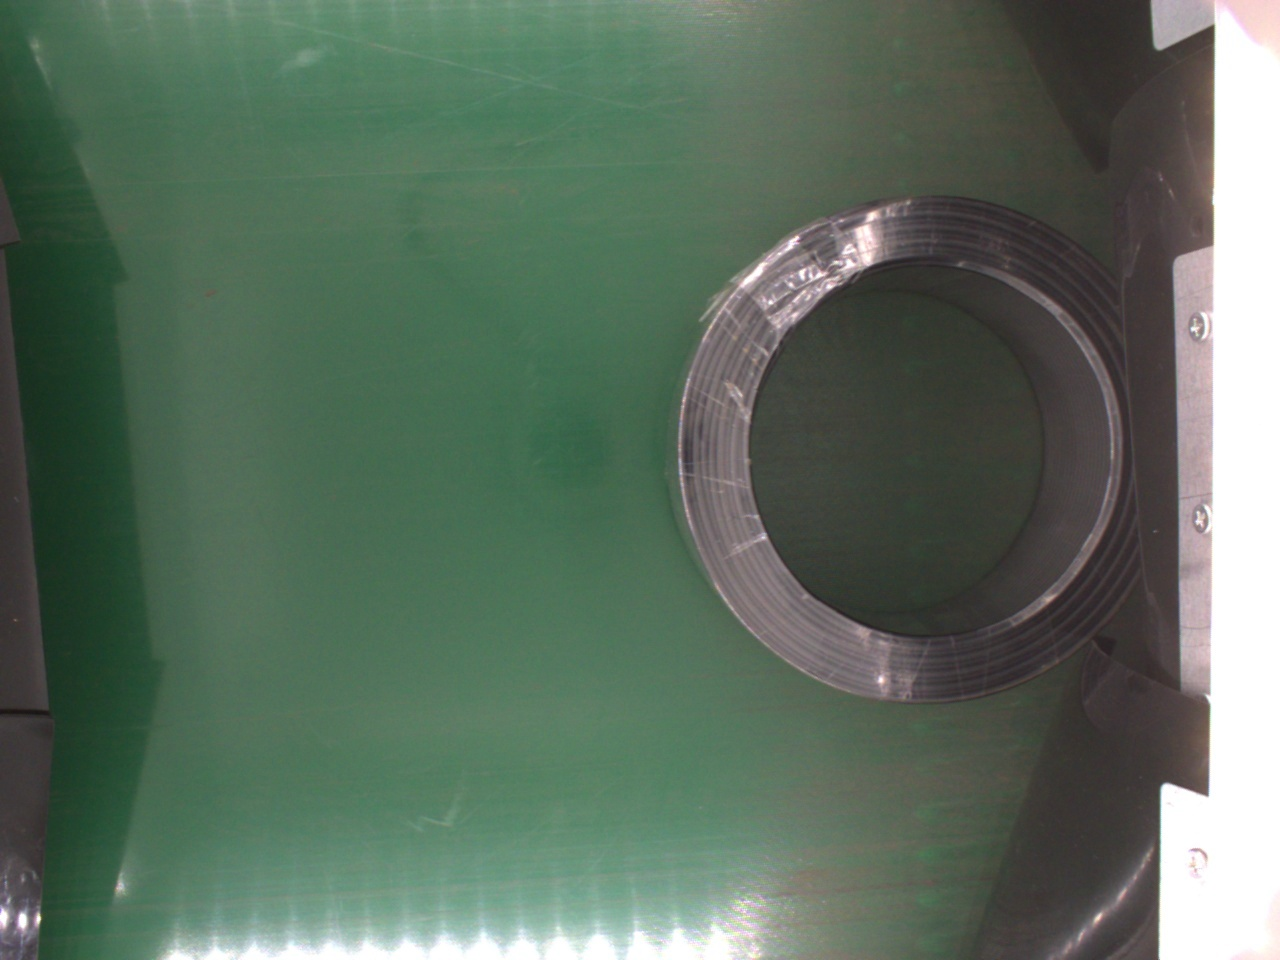black: (682, 193, 1133, 710)
